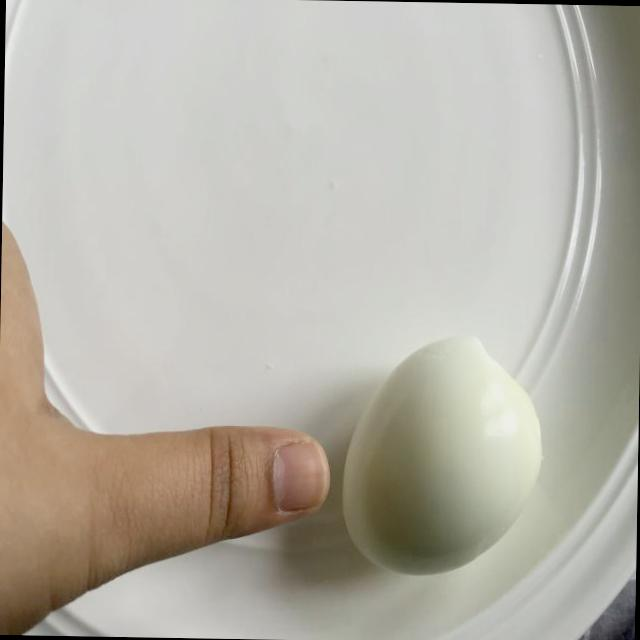Egg: (328, 320, 554, 592)
Finger: (160, 420, 339, 558)
